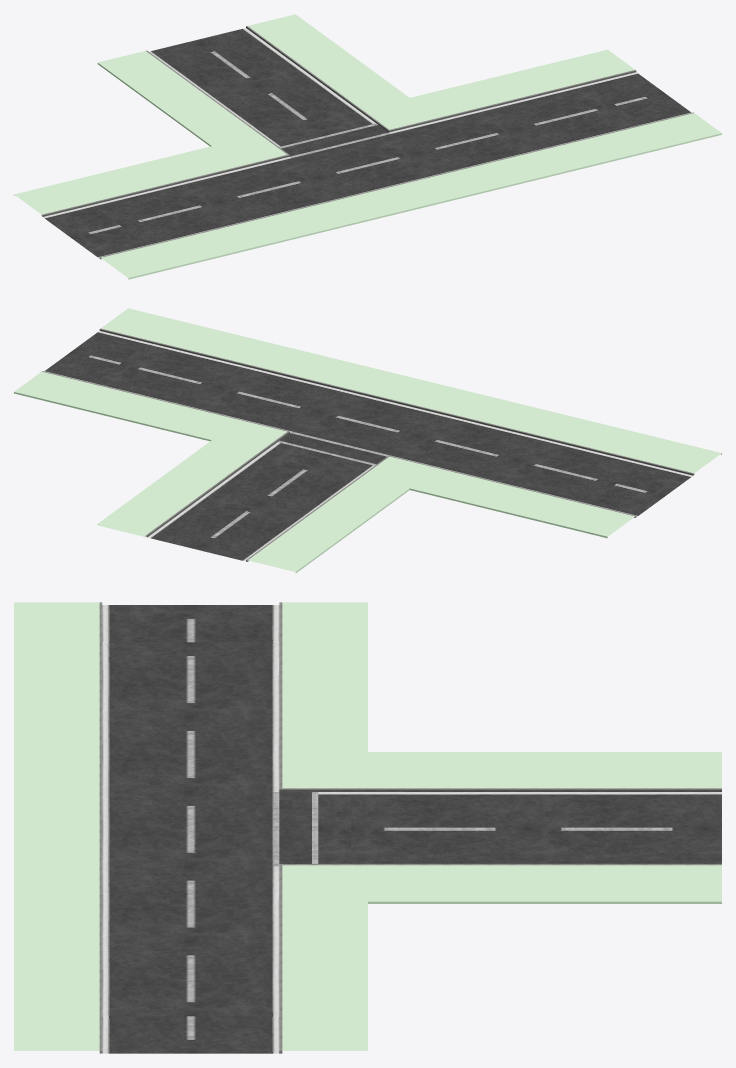
Rendered from SingleT_high.fbx.
3 renders of one model, top to bottom at view 1: azimuth 30°, elevation 25°; view 2: azimuth 150°, elevation 25°; view 3: azimuth 270°, elevation 25°, orthographic. The views are drawn at different scales.
Parts seen in each view (by area): view 1: materialA150, materialG150, materialE150, materialF150, materialC150, materialD150; view 2: materialA150, materialG150, materialE150, materialF150, materialC150, materialD150; view 3: materialA150, materialG150, materialE150, materialC150, materialF150, materialD150.
Part boxes in pixels (<box>): materialA150: <box>43,28,691,258</box>; materialG150: <box>14,14,721,279</box>; materialE150: <box>42,26,693,257</box>; materialF150: <box>41,26,636,259</box>; materialC150: <box>281,125,388,156</box>; materialD150: <box>279,123,390,157</box>; materialA150: <box>44,331,692,561</box>; materialG150: <box>14,308,721,573</box>; materialE150: <box>42,328,693,560</box>; materialF150: <box>99,329,694,561</box>; materialC150: <box>280,433,386,464</box>; materialD150: <box>278,431,390,465</box>; materialA150: <box>102,605,721,1053</box>; materialG150: <box>14,602,721,1050</box>; materialE150: <box>99,602,721,1050</box>; materialC150: <box>279,792,311,863</box>; materialF150: <box>99,789,721,1053</box>; materialD150: <box>273,792,318,866</box>.
Bounding box in the file's own units: 76.8 × 0.2 × 51.2.
